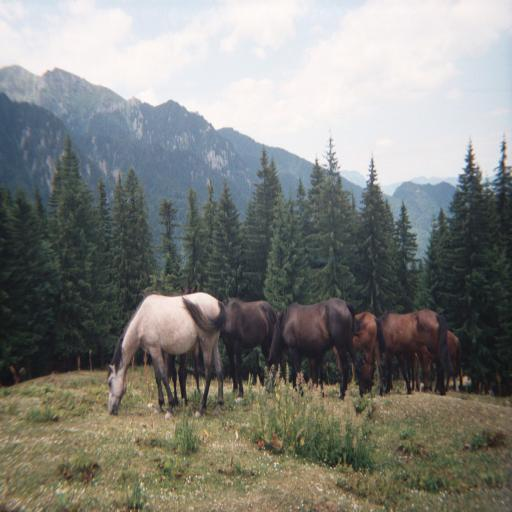Horse: (108, 295, 462, 416)
